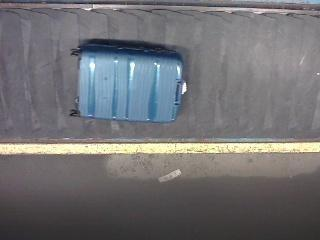Suitcase: (71, 40, 186, 123)
